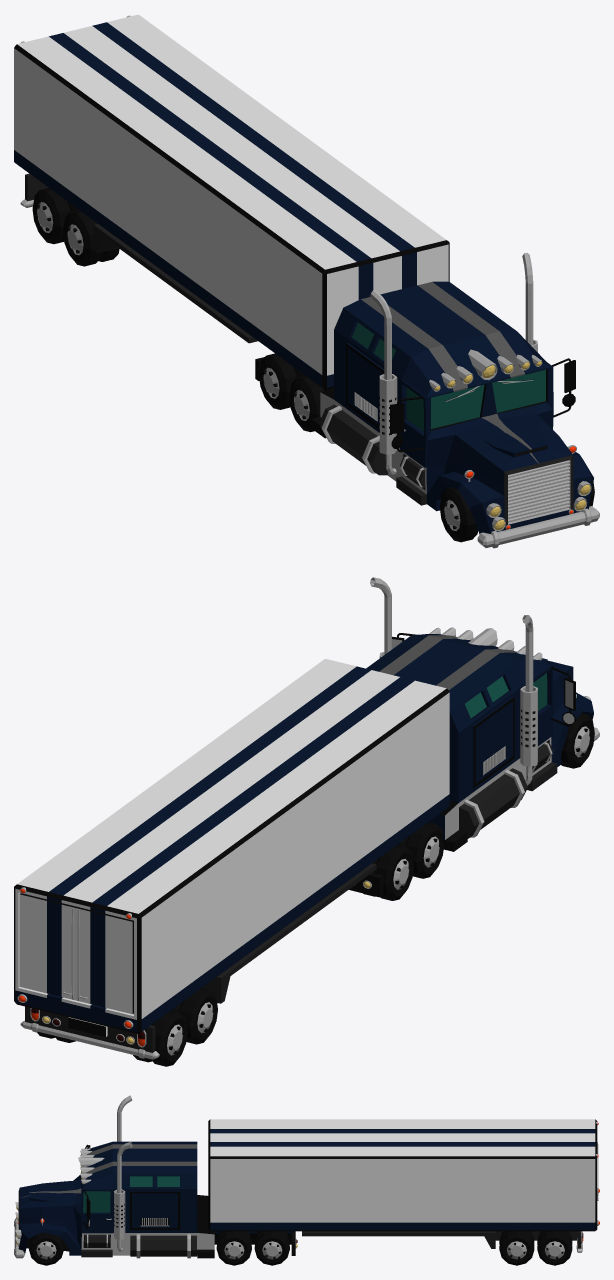
Rendered from LorryTruck.FBX.
The picture shows the model from 3 angles, top to bottom: view 1: azimuth 30°, elevation 25°; view 2: azimuth 150°, elevation 25°; view 3: azimuth 270°, elevation 25°; orthographic projection. The views are drawn at different scales.
Parts seen in each view (by area): view 1: trailer, LorryTruck, grill, interieur, lights, wheels_b1_r, wheels_b2_r, wheels_m2_r, wheel_f_r, wheels_m1_r, mirrors, headLights; view 2: trailer, LorryTruck, wheels_m2_r, wheels_b1_r, wheels_m1_r, wheels_b2_r, wheel_f_r, lights, mirrors; view 3: trailer, LorryTruck, wheels_b1_l, wheels_b2_l, wheels_m2_l, wheels_m1_l, wheel_f_l, lights, interieur.
Boxes of the visible parts, x1,y1,x2,y2 form: trailer: [14, 14, 449, 389]; LorryTruck: [255, 252, 599, 548]; grill: [508, 460, 569, 522]; interieur: [374, 339, 545, 430]; lights: [429, 349, 591, 531]; wheels_b1_r: [63, 210, 119, 266]; wheels_b2_r: [32, 187, 78, 244]; wheels_m2_r: [259, 353, 304, 409]; wheel_f_r: [439, 487, 477, 542]; wheels_m1_r: [289, 375, 333, 432]; mirrors: [390, 358, 575, 452]; headLights: [434, 361, 590, 529]; trailer: [14, 658, 449, 1059]; LorryTruck: [349, 577, 599, 897]; wheels_m2_r: [363, 844, 413, 900]; wheels_b1_r: [171, 988, 217, 1044]; wheels_m1_r: [398, 822, 444, 878]; wheels_b2_r: [133, 1010, 187, 1066]; wheel_f_r: [561, 713, 594, 768]; lights: [355, 627, 590, 888]; mirrors: [392, 633, 575, 726]; trailer: [208, 1119, 598, 1252]; LorryTruck: [14, 1095, 295, 1258]; wheels_b1_l: [499, 1231, 534, 1265]; wheels_b2_l: [537, 1231, 572, 1265]; wheels_m2_l: [254, 1231, 289, 1265]; wheels_m1_l: [216, 1231, 251, 1265]; wheel_f_l: [29, 1232, 63, 1265]; lights: [15, 1148, 296, 1248]; interieur: [83, 1176, 179, 1243].
Size of the model in its own units: 42.7 by 45.08 by 187.
